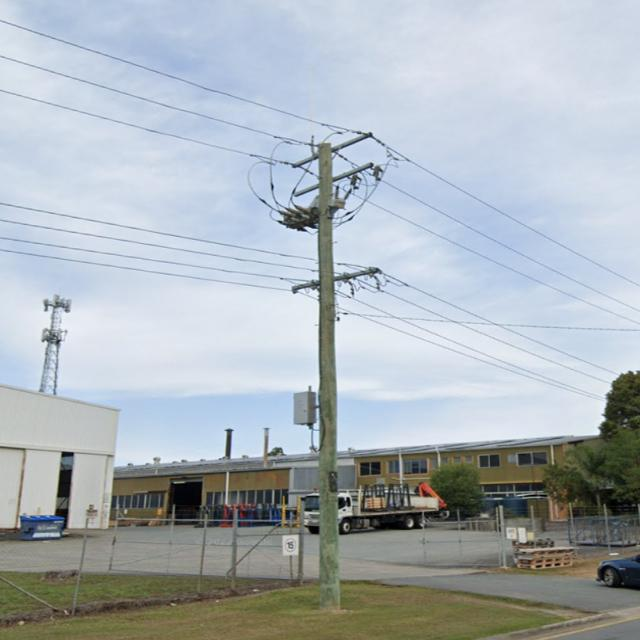HV-switch: (274, 204, 322, 234)
HV-transmission: (278, 130, 385, 186)
LV link: (342, 278, 384, 294), (368, 273, 406, 287)
crossarm: (291, 132, 373, 169), (293, 162, 374, 197), (291, 267, 381, 291)
timber-pole: (316, 142, 343, 612)
